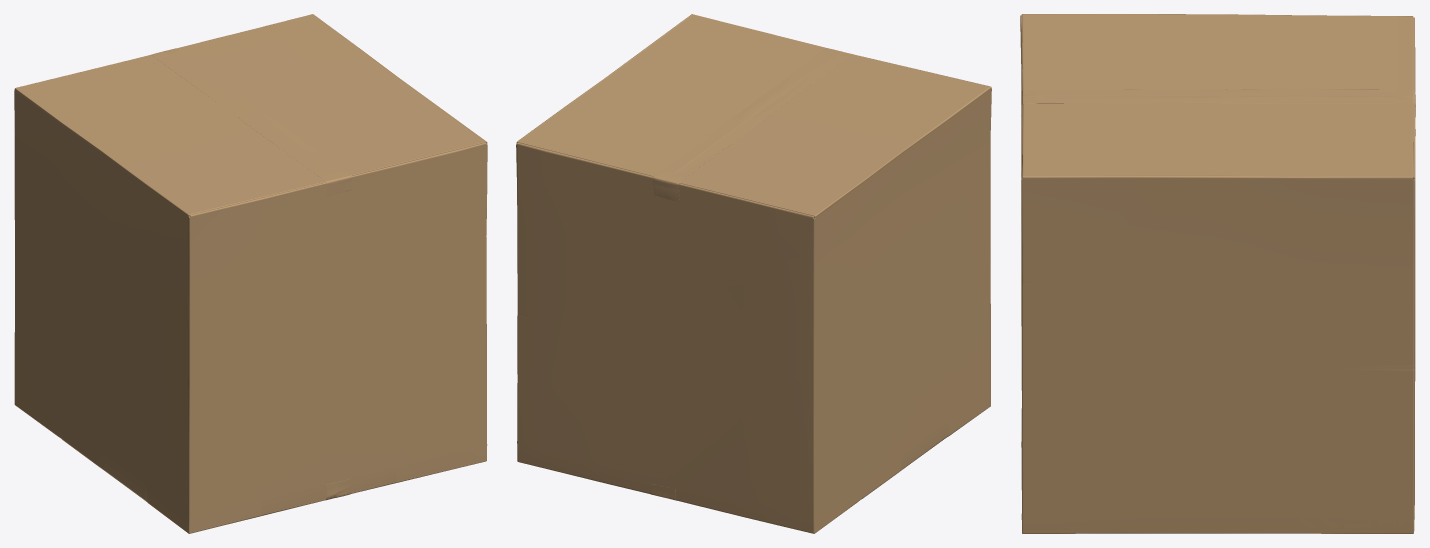
The model's file is box_corrugated_white_a08.glb.
3 views of the same model, side by side, from view 1: azimuth 30°, elevation 25°; view 2: azimuth 150°, elevation 25°; view 3: azimuth 270°, elevation 25° (orthographic). The views are drawn at different scales.
Bounding box in the file's own units: 0.2968 × 0.3032 × 0.3031.
